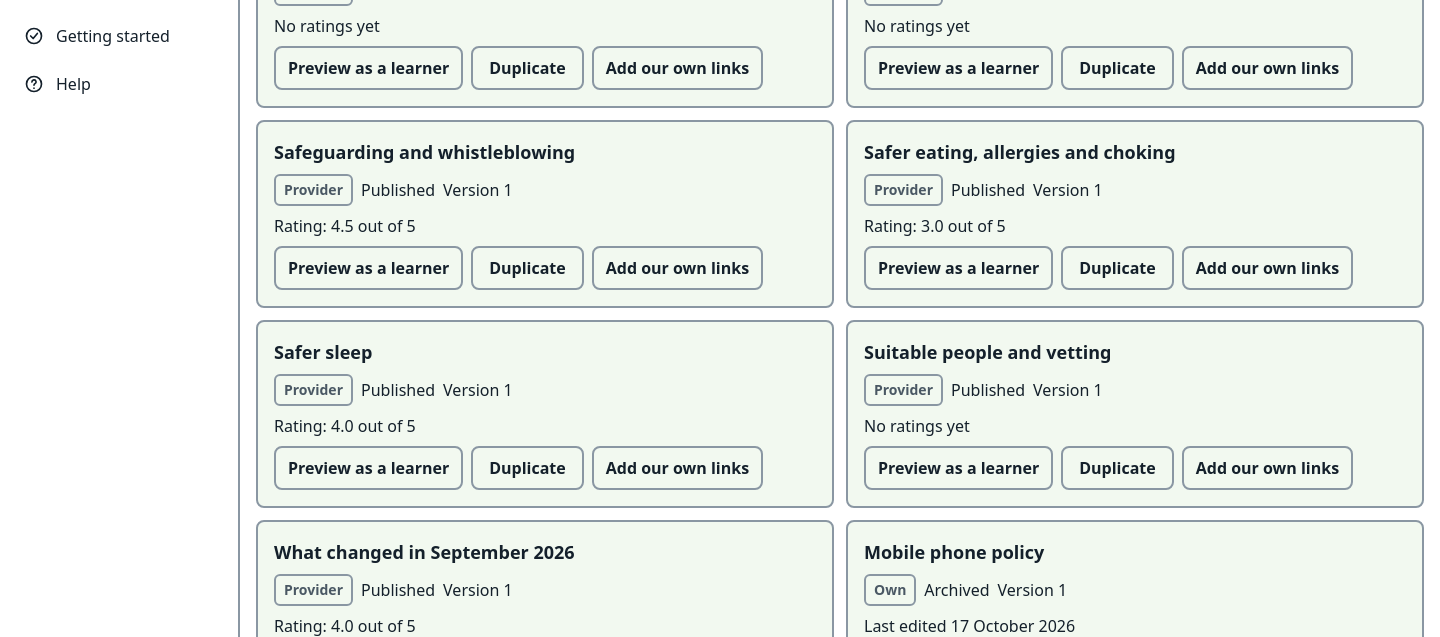
Test: C6 Module Library › counts a duplicate against the ownModules limit and shows the refusal inline
(page scrolled)
Click the button "Duplicate" below "Rating: 4.5 out of 5" at (527, 268), box x1=471 y1=246 x2=584 y2=290
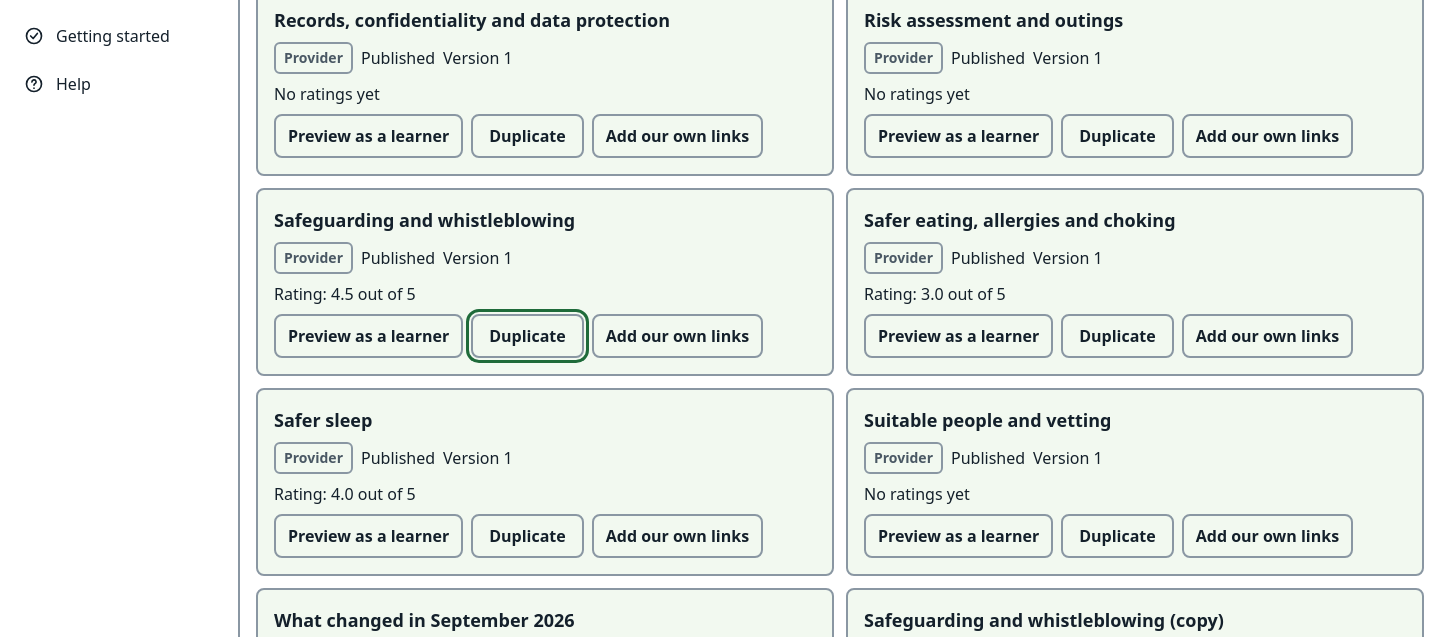
Click the button "Duplicate" below "Rating: 4.5 out of 5" at (527, 336), box x1=471 y1=314 x2=584 y2=358
(page scrolled)
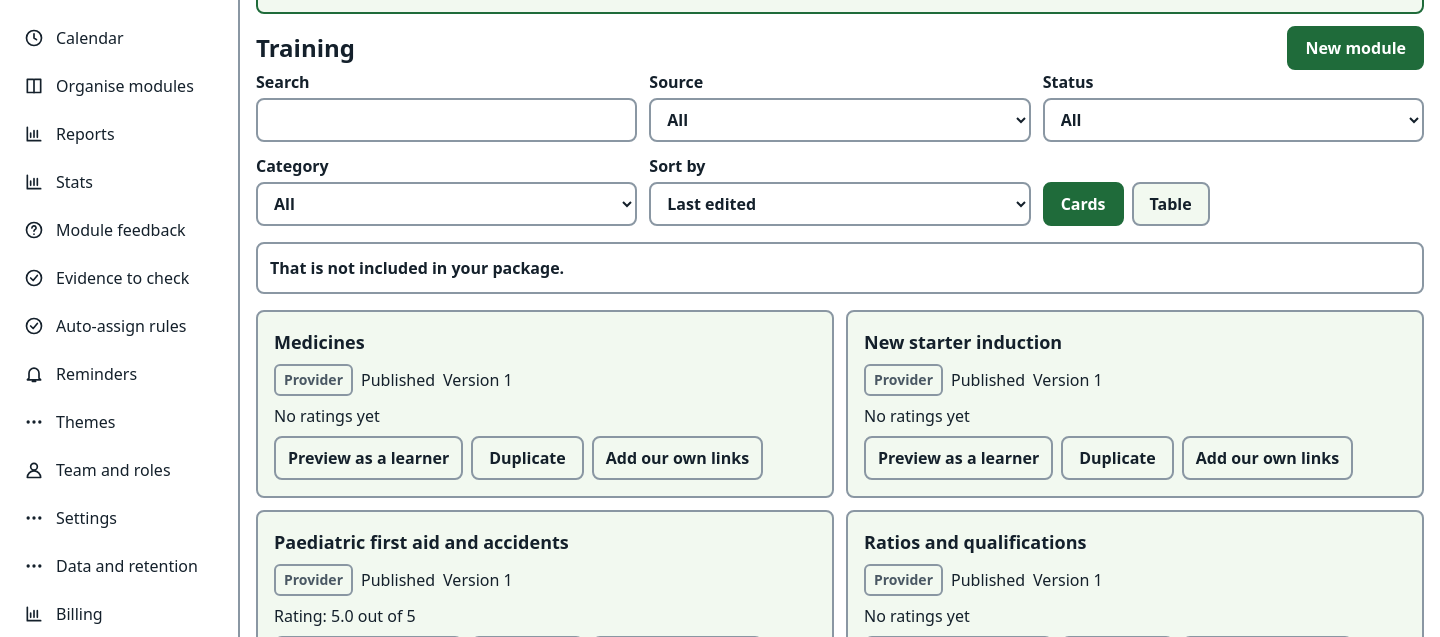
Check: the message reads "That is not included in your package.", box x1=270 y1=257 x2=564 y2=279
